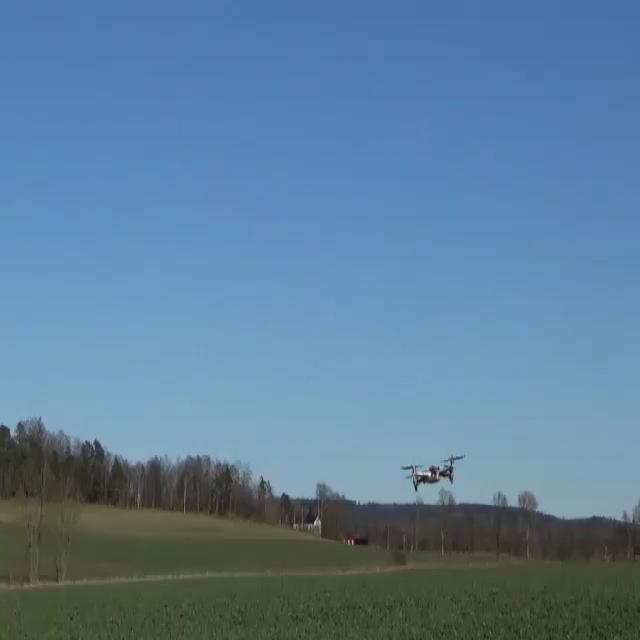Drone: (384, 452, 476, 492)
